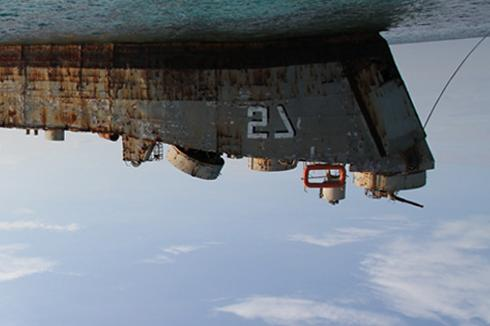rust: (1, 46, 344, 71), (7, 96, 114, 139)
